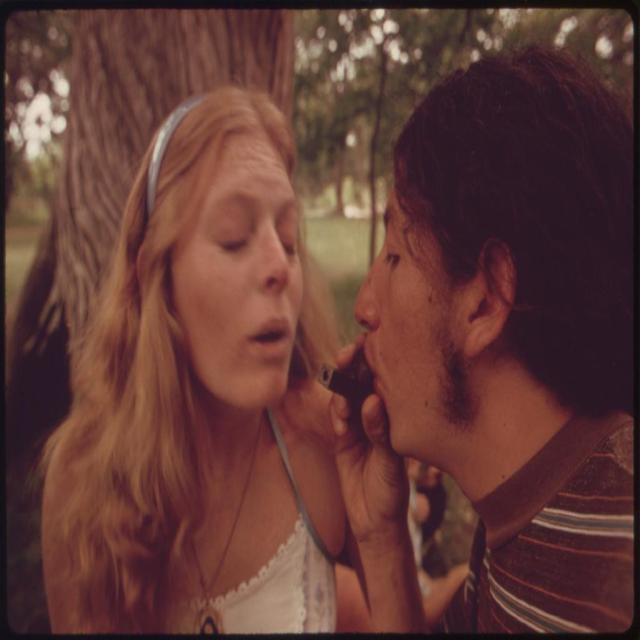smoking: (312, 18, 604, 544)
